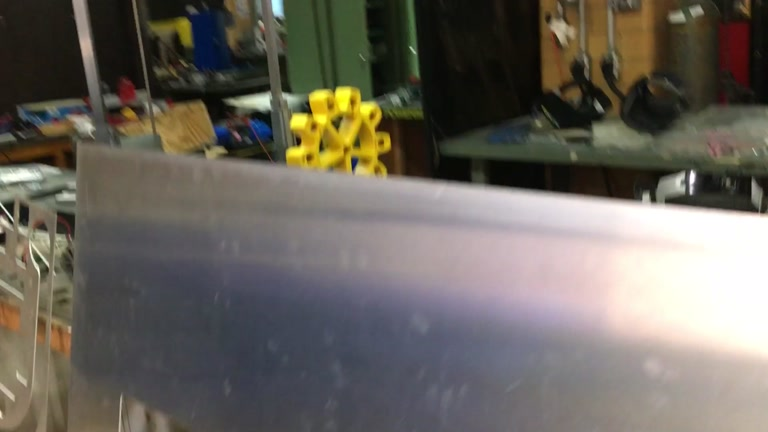gear: (283, 85, 392, 188)
